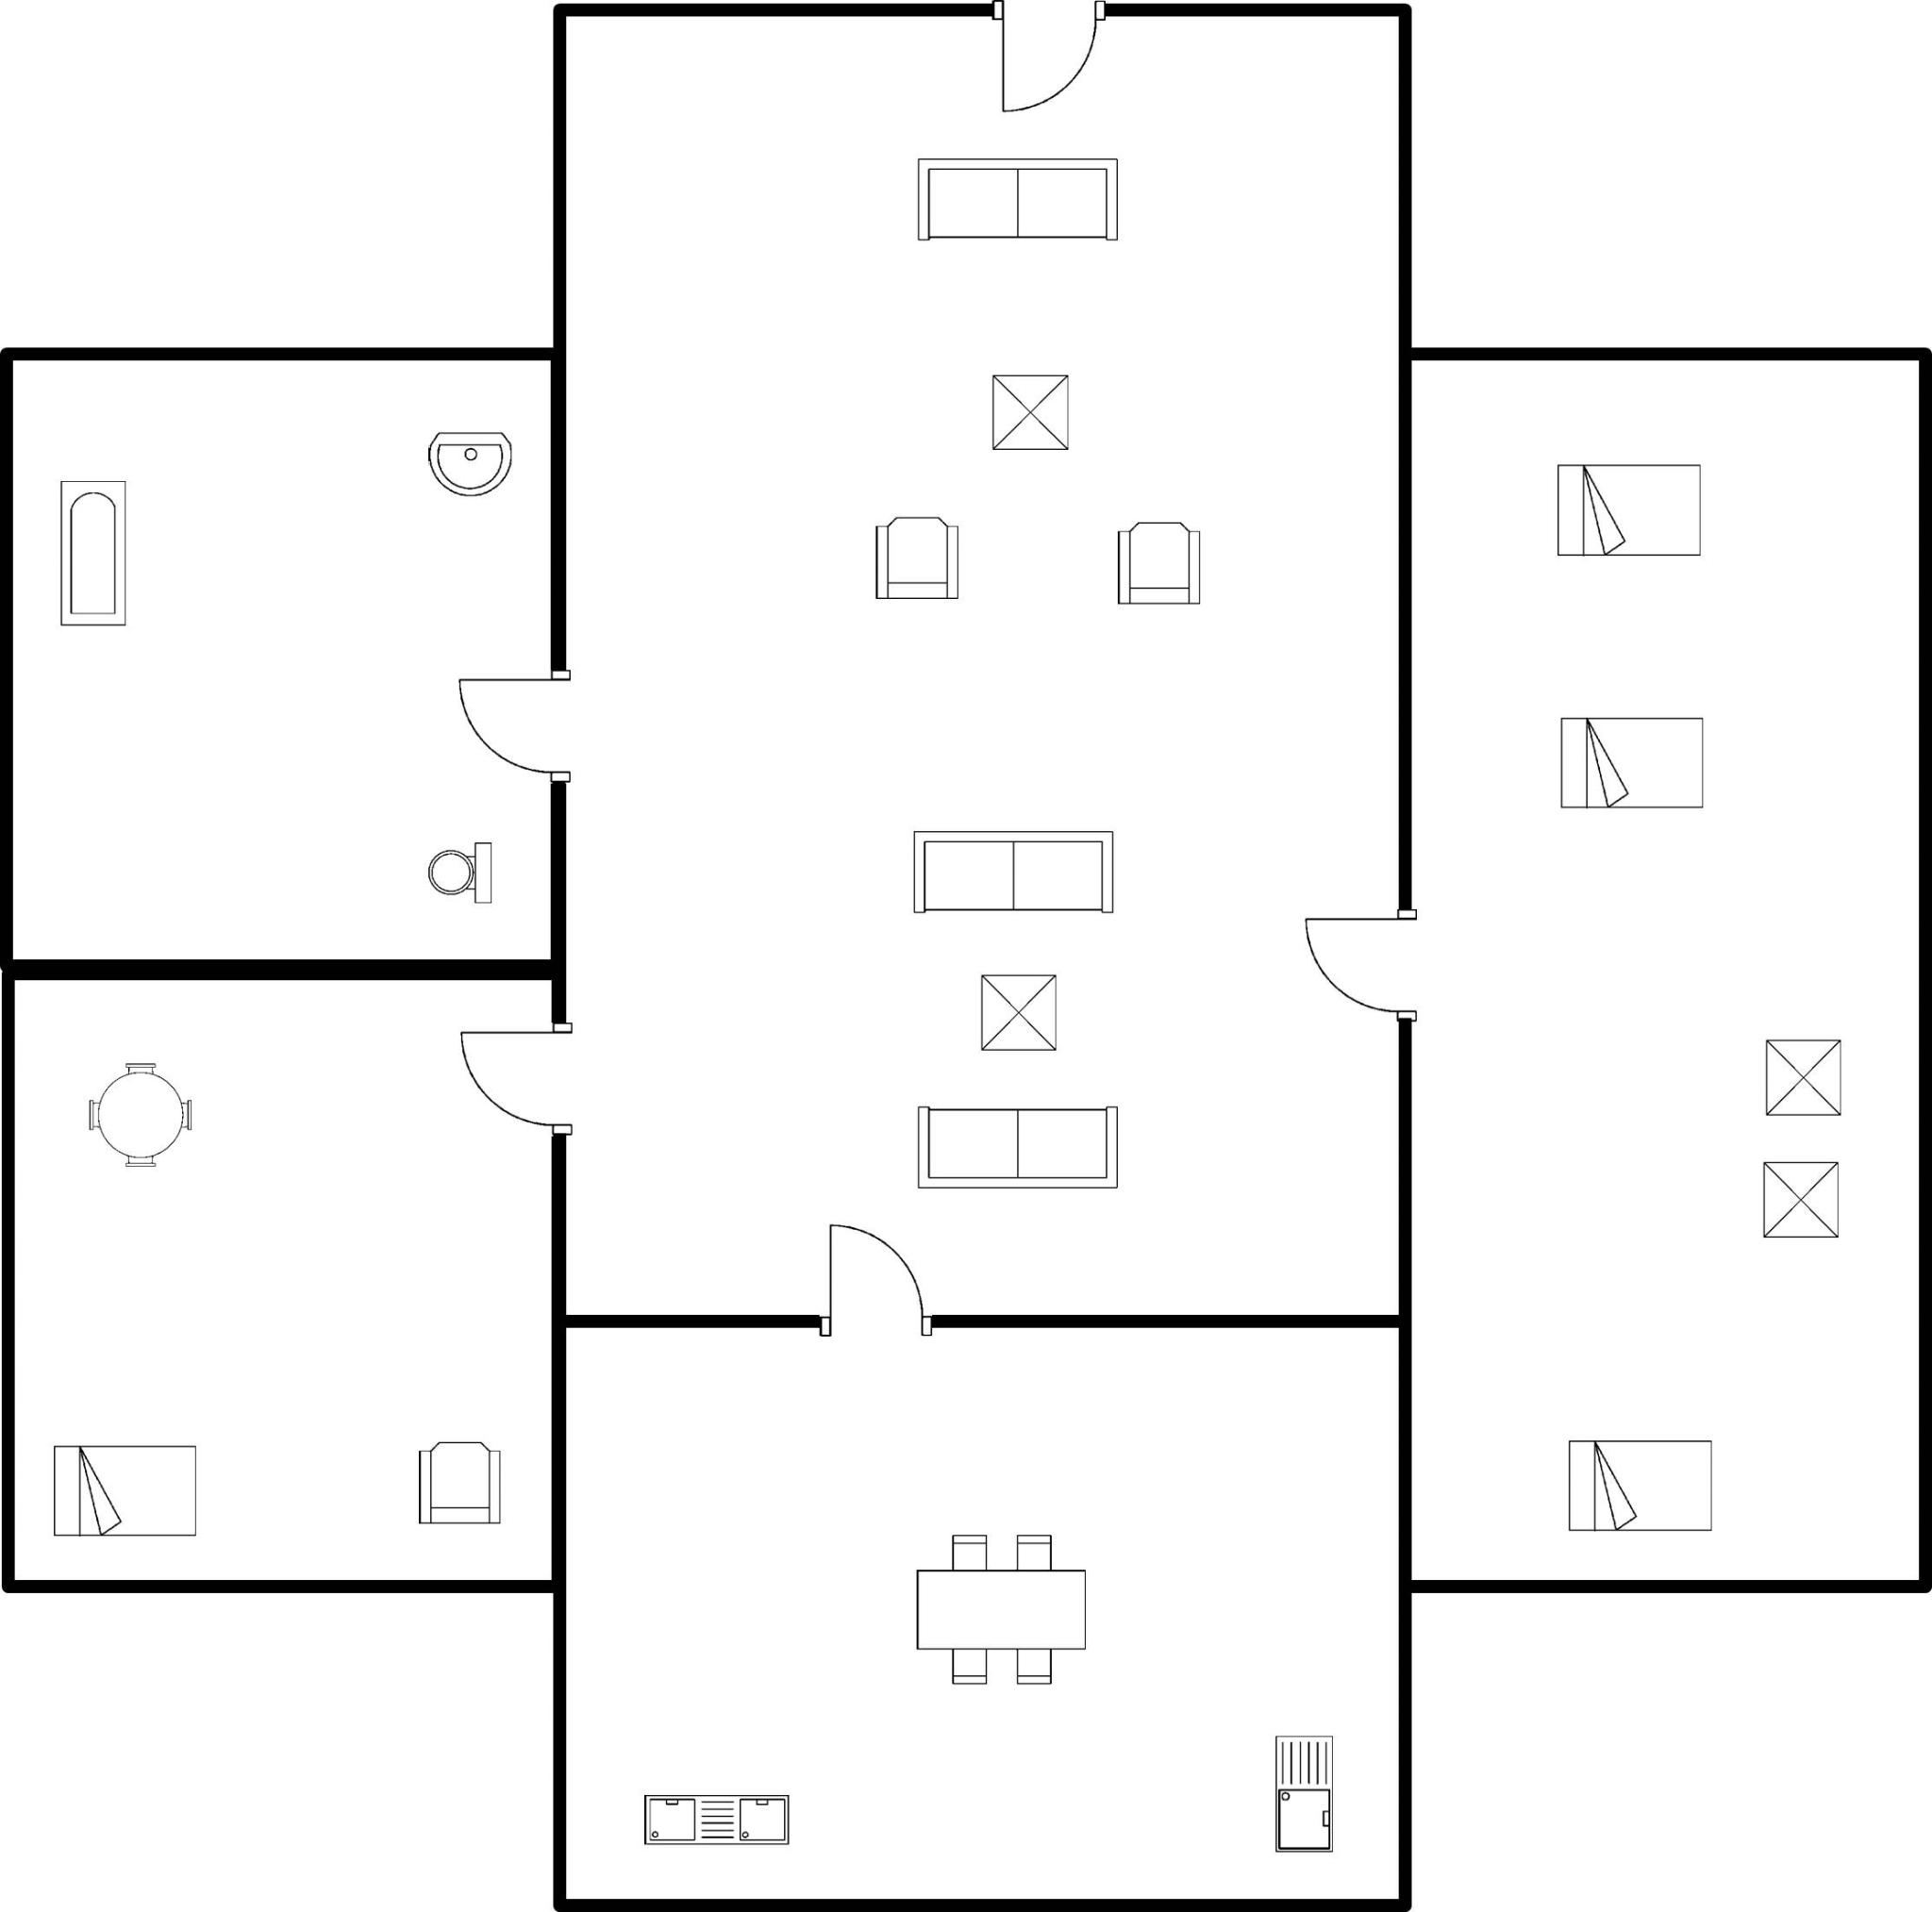sink: (629, 1779, 800, 1865)
